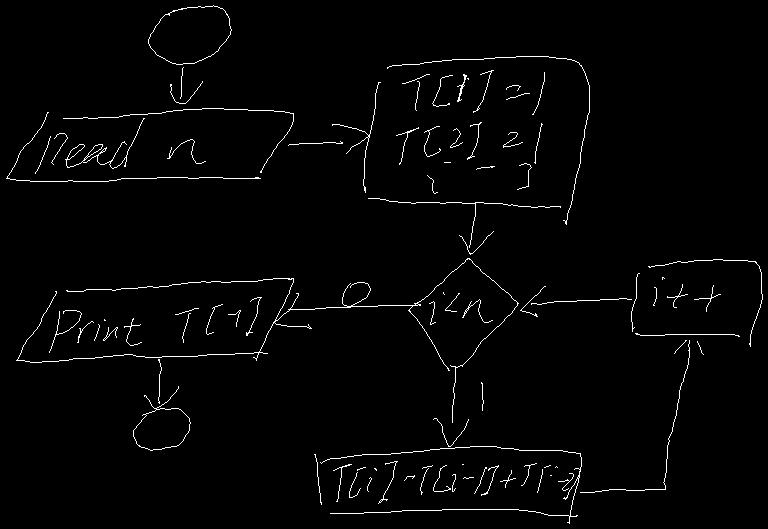arrow: (580, 340, 703, 492), (274, 293, 420, 328), (520, 286, 631, 316), (433, 365, 468, 446), (288, 124, 369, 153), (459, 202, 493, 254), (144, 359, 178, 408), (170, 67, 202, 103)
connection: (148, 5, 231, 64), (133, 408, 190, 450)
data: (16, 278, 293, 362), (6, 108, 293, 181)
decision: (408, 258, 518, 370)
process: (363, 56, 589, 224), (314, 446, 581, 523), (631, 259, 762, 346)
text: (396, 70, 544, 193), (49, 297, 261, 352), (333, 461, 580, 503), (35, 118, 205, 173), (653, 277, 720, 311), (429, 292, 492, 324), (342, 282, 370, 306), (480, 382, 483, 410)
